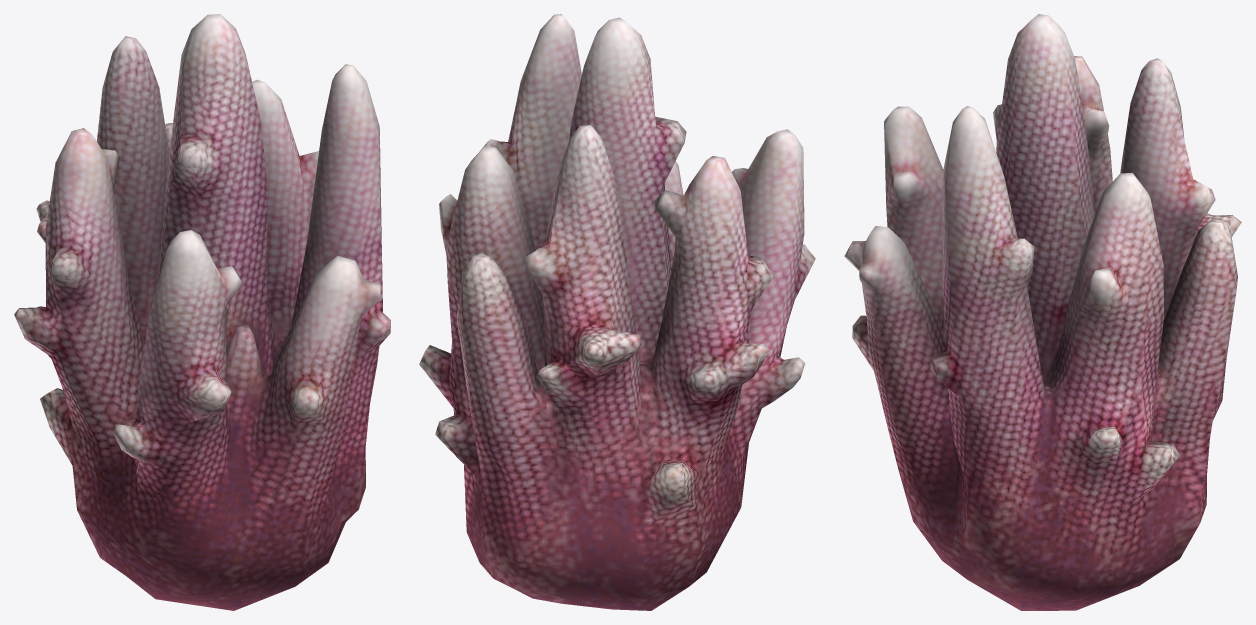
File: Coral04.fbx
3 renders of one model, left to right at view 1: azimuth 30°, elevation 25°; view 2: azimuth 150°, elevation 25°; view 3: azimuth 270°, elevation 25°, orthographic. The views are drawn at different scales.
Visible parts, largest first — view 1: Coral_16_1; view 2: Coral_16_1; view 3: Coral_16_1.
Part boxes in pixels (left/top/right/bottom): Coral_16_1: left=14, top=14, right=390, bottom=610; Coral_16_1: left=419, top=14, right=815, bottom=610; Coral_16_1: left=844, top=14, right=1241, bottom=610.
Size of the model in its own units: 130 by 215 by 135.
